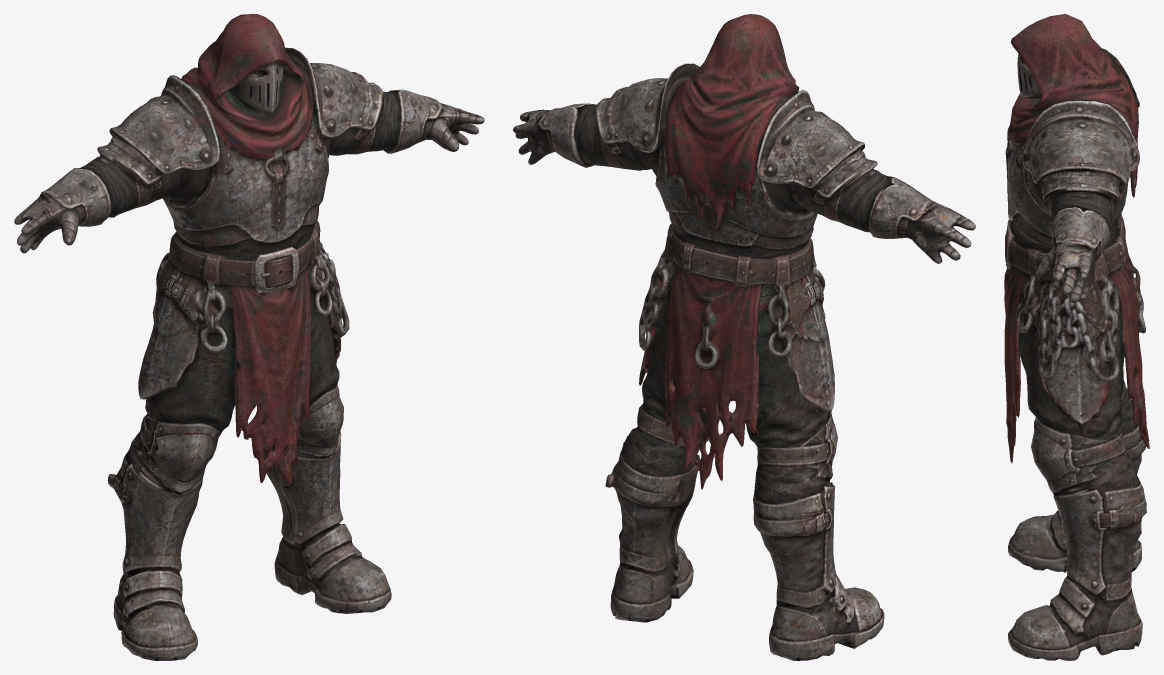
The model's file is tank.obj.
3 views of the same model, side by side, from view 1: azimuth 30°, elevation 25°; view 2: azimuth 150°, elevation 25°; view 3: azimuth 270°, elevation 25° (orthographic). The views are drawn at different scales.
Parts seen in each view (by area): view 1: tank_character; view 2: tank_character; view 3: tank_character.
Boxes of the visible parts, <box> form: tank_character: <box>14,14,484,660</box>; tank_character: <box>513,14,975,660</box>; tank_character: <box>1004,14,1149,660</box>.
Size of the model in its own units: 1.44 by 1.8 by 0.4037.
1 material, 1 textured.
